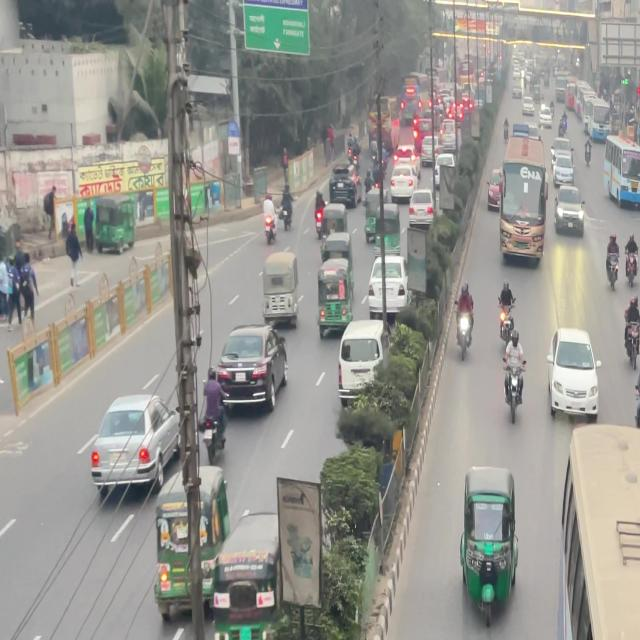bus: (560, 433, 640, 640), (208, 510, 289, 640), (498, 161, 548, 266), (75, 189, 144, 256), (262, 249, 300, 335), (601, 139, 640, 209)
car: (88, 394, 175, 506), (461, 466, 521, 608), (216, 329, 288, 413), (551, 332, 605, 426), (340, 321, 390, 402), (555, 192, 584, 234), (550, 151, 574, 190)
